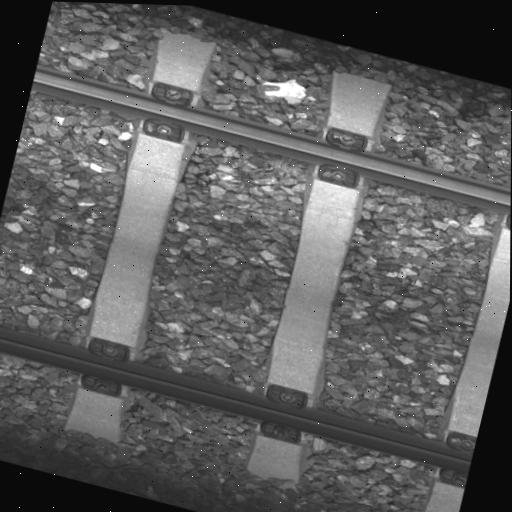sleeper: (62, 23, 217, 447), (240, 66, 393, 489), (427, 116, 511, 512)
